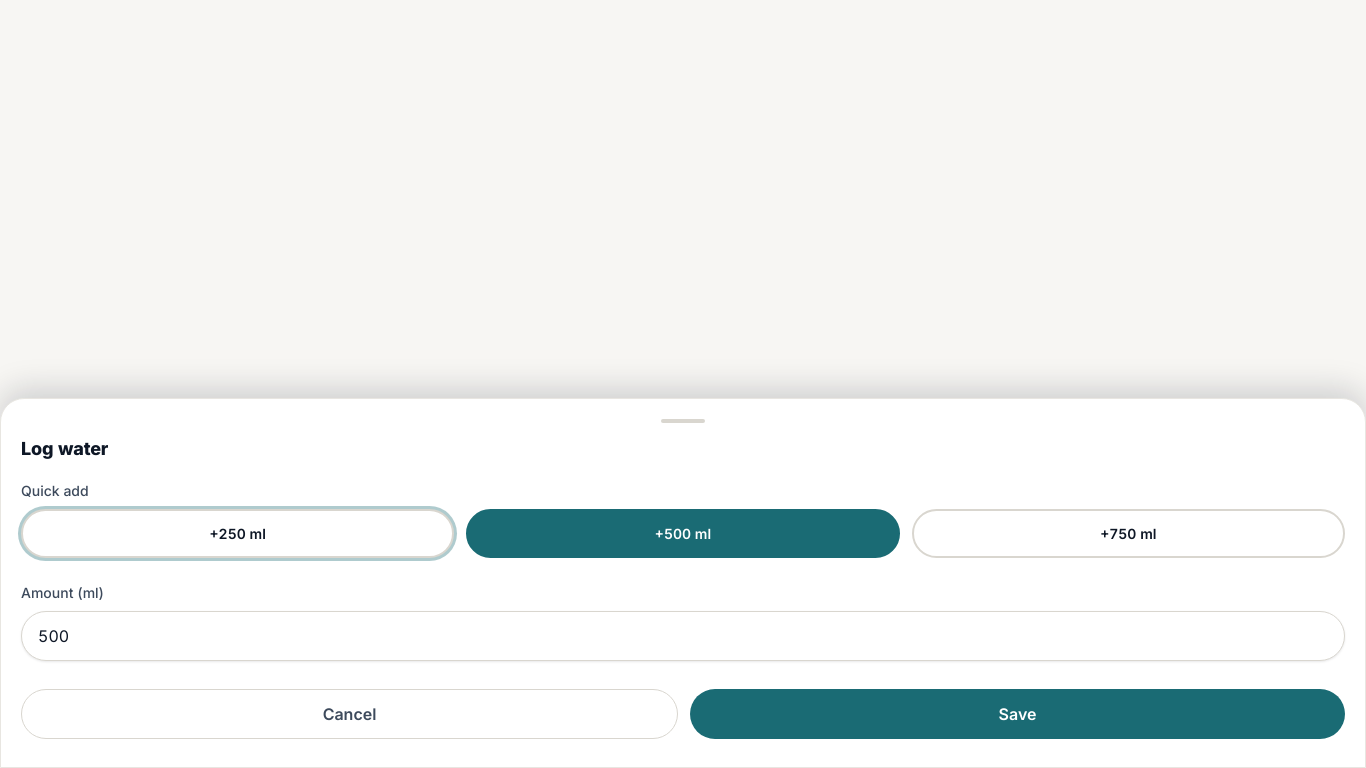
Test case: QuickLogWaterSheet › tapping +250 ml sets the input value to 250
The image size is (1366, 768).
Click the button "+250 ml" at (238, 534), box [21,509,454,558]
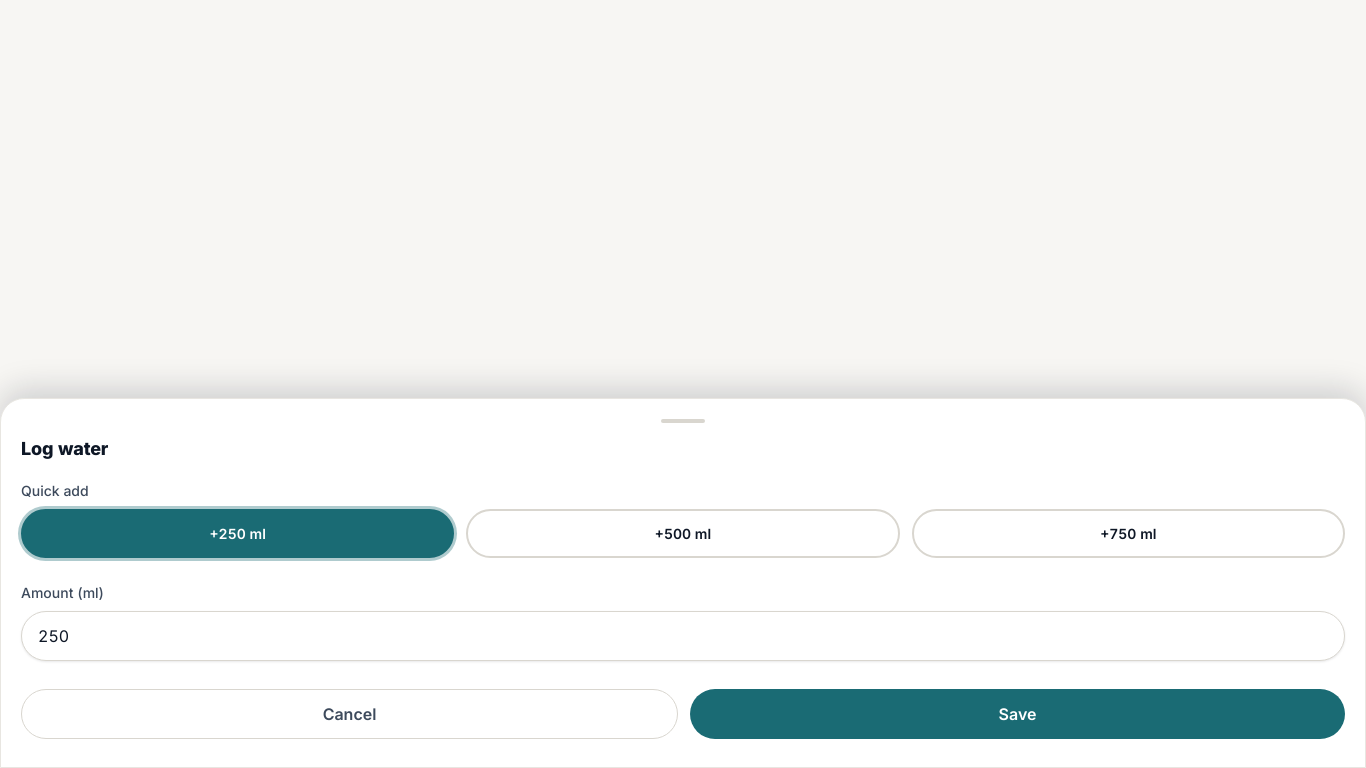
Check: the number field holds "250", box [21,611,1345,661]
